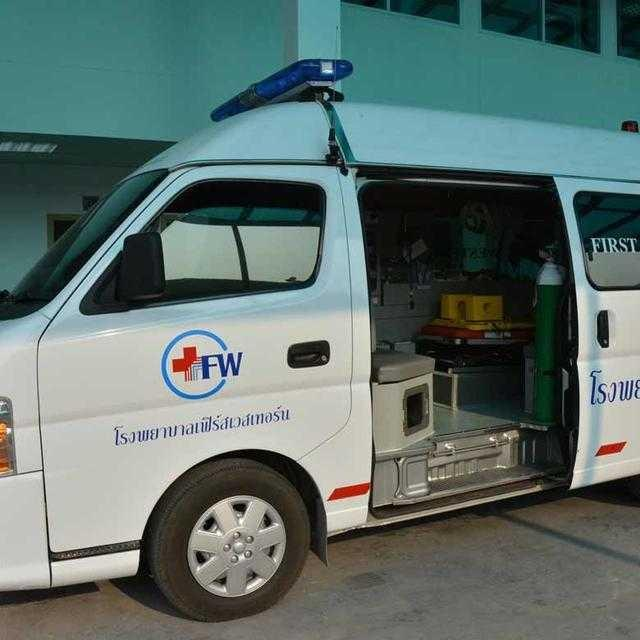car: (0, 56, 639, 623)
